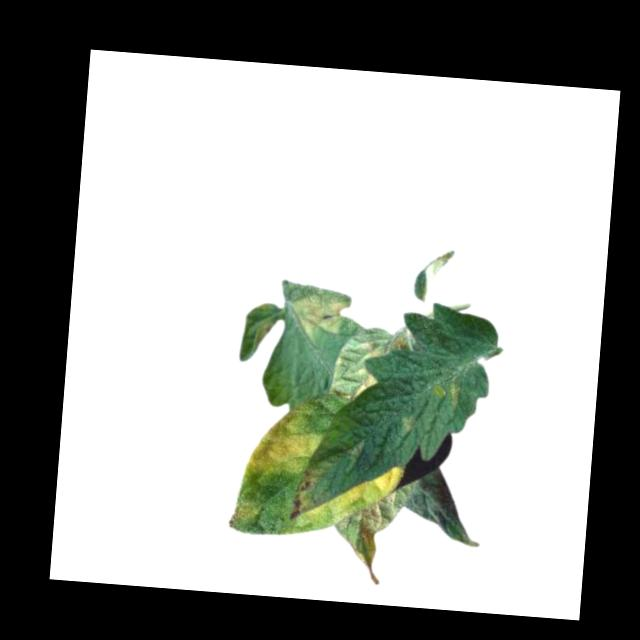Leaf_Mold: (309, 461, 406, 534), (244, 405, 320, 479), (329, 337, 385, 404), (290, 290, 351, 345), (223, 500, 261, 531), (289, 474, 312, 521)
